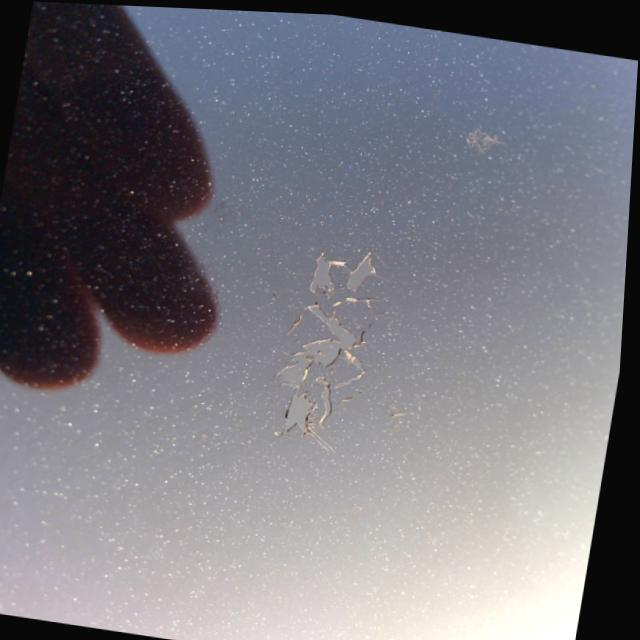Paint-Crack: (266, 243, 389, 458), (455, 123, 507, 158)
